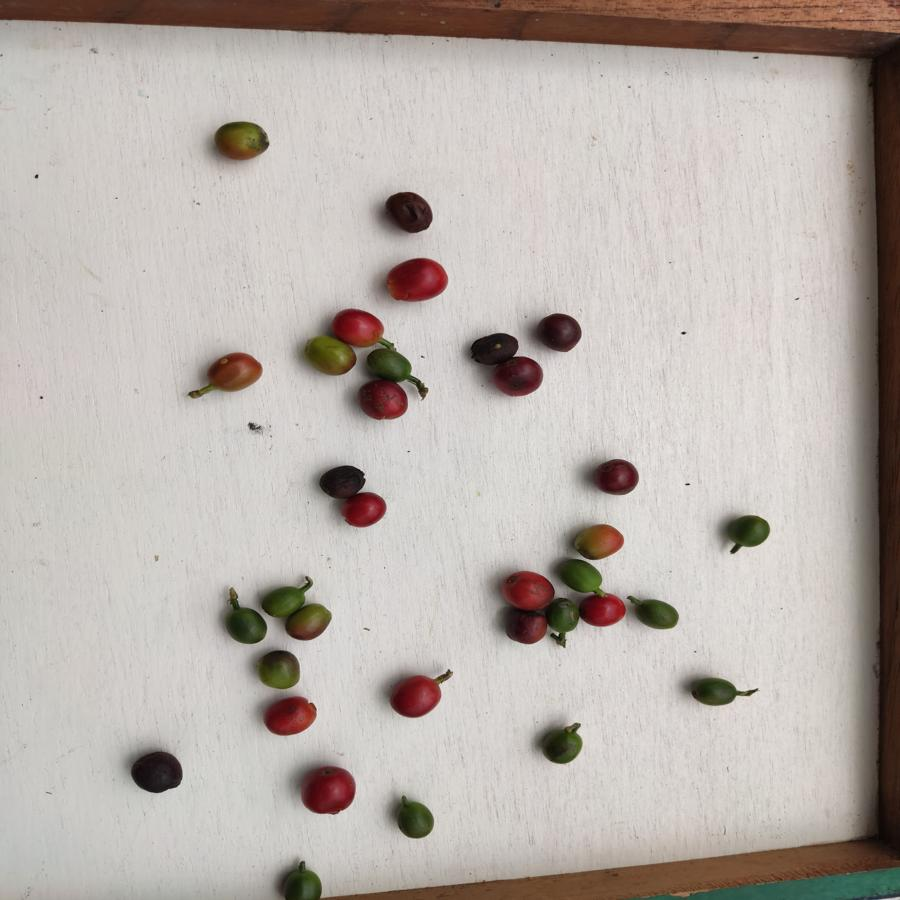Inmaduro: (632, 593, 680, 632), (686, 674, 738, 710), (726, 511, 771, 551), (393, 800, 436, 841), (540, 726, 585, 765), (222, 605, 267, 644), (555, 557, 604, 592), (364, 348, 416, 379), (280, 866, 325, 900), (260, 587, 308, 611), (549, 598, 580, 632)
Maduro: (385, 255, 449, 305), (299, 764, 357, 817), (391, 674, 443, 721), (264, 694, 319, 738), (498, 570, 555, 610), (332, 306, 384, 345), (340, 492, 388, 527), (580, 594, 627, 627)
Pinton: (208, 352, 264, 397), (215, 118, 270, 163), (304, 337, 354, 378), (257, 650, 303, 692), (574, 522, 626, 557), (286, 606, 331, 641)
Sobremaduro: (131, 748, 185, 793), (386, 190, 437, 236), (354, 380, 410, 421), (592, 455, 641, 497), (495, 358, 548, 396), (536, 312, 582, 353), (318, 464, 370, 498), (469, 332, 520, 363), (504, 611, 548, 646)
